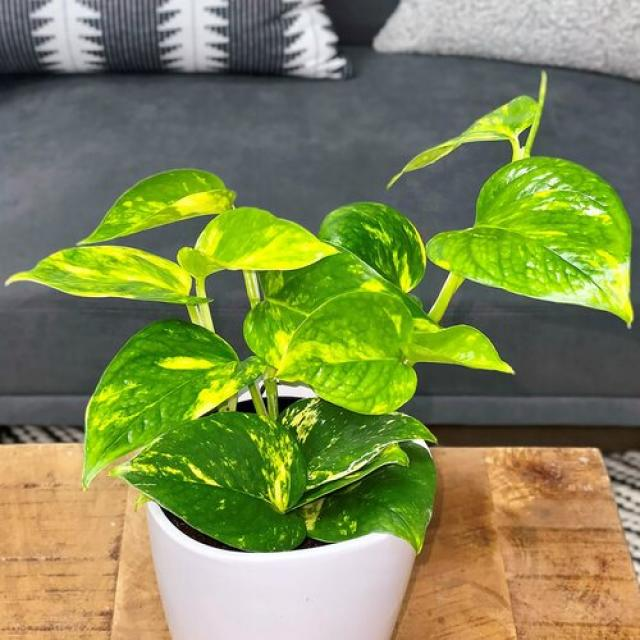Plants: (61, 177, 489, 576)
